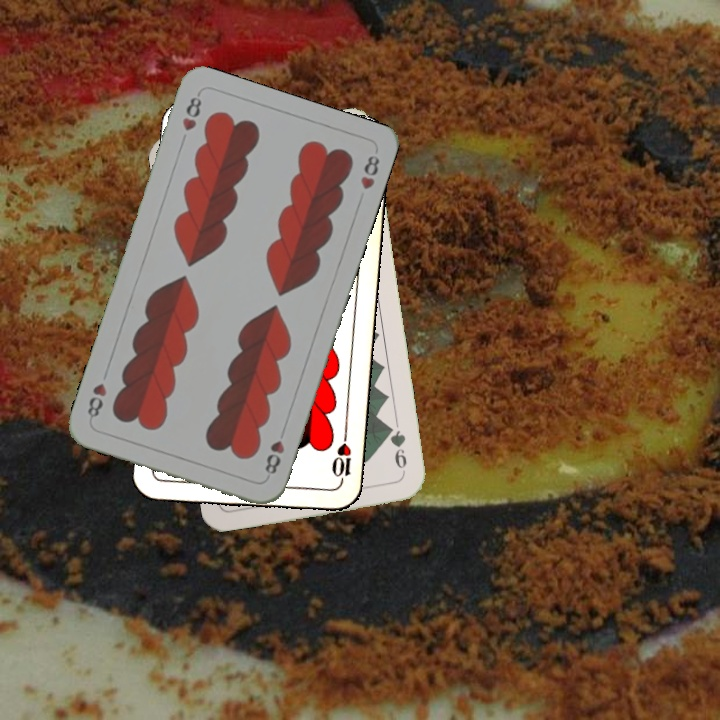G9: (383, 421, 410, 478)
H10: (327, 429, 354, 488)
H8: (178, 90, 205, 134), (260, 436, 287, 477)
